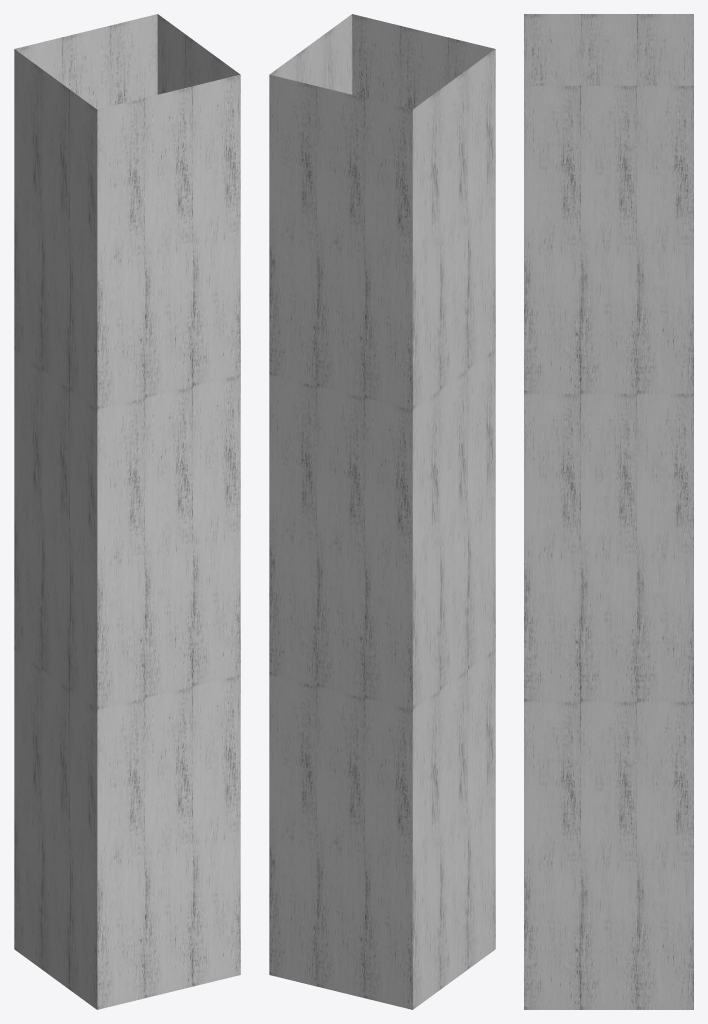
Rendered from Pillar001.FBX.
3 views of the same model, side by side, from view 1: azimuth 30°, elevation 25°; view 2: azimuth 150°, elevation 25°; view 3: azimuth 270°, elevation 25° (orthographic). The views are drawn at different scales.
Parts seen in each view (by area): view 1: Pillar001; view 2: Pillar001; view 3: Pillar001.
Part boxes in pixels (x1,y1,x2,y2): Pillar001: [14, 14, 240, 1009]; Pillar001: [269, 14, 495, 1009]; Pillar001: [524, 14, 693, 1009].
Bounding box in the file's own units: 50 × 300 × 50.
